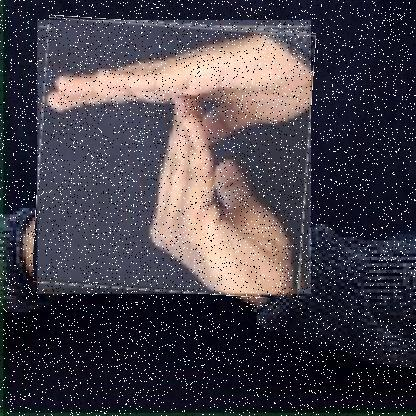Z: (36, 20, 311, 295)
